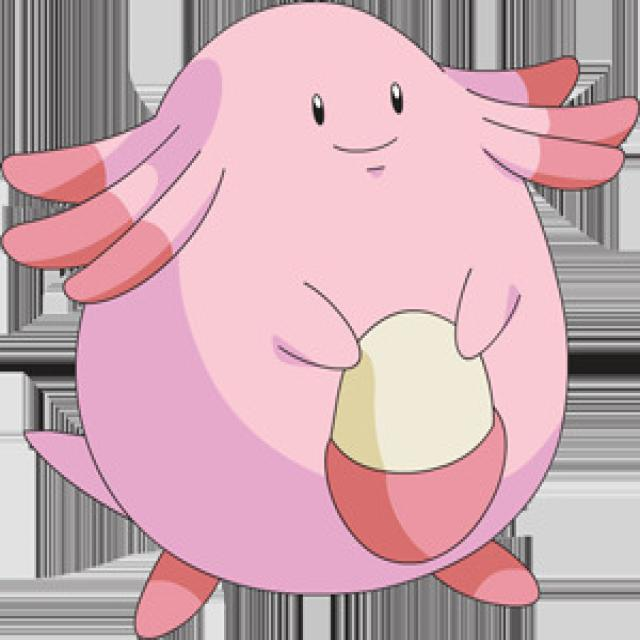Chansey: (4, 13, 636, 616)
